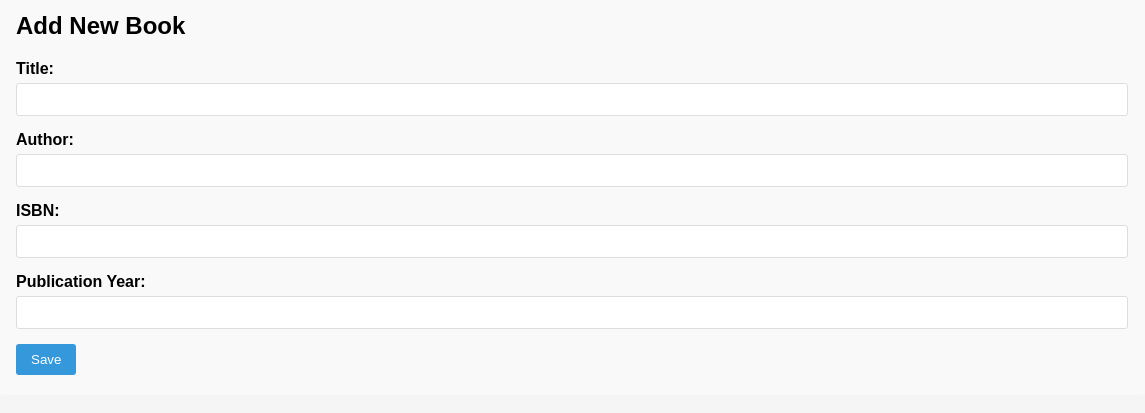
BookForm › shows error for invalid ISBN length
Type "TestBook" into the field labelled "Title:" at (572, 99), box [16, 83, 1128, 116]
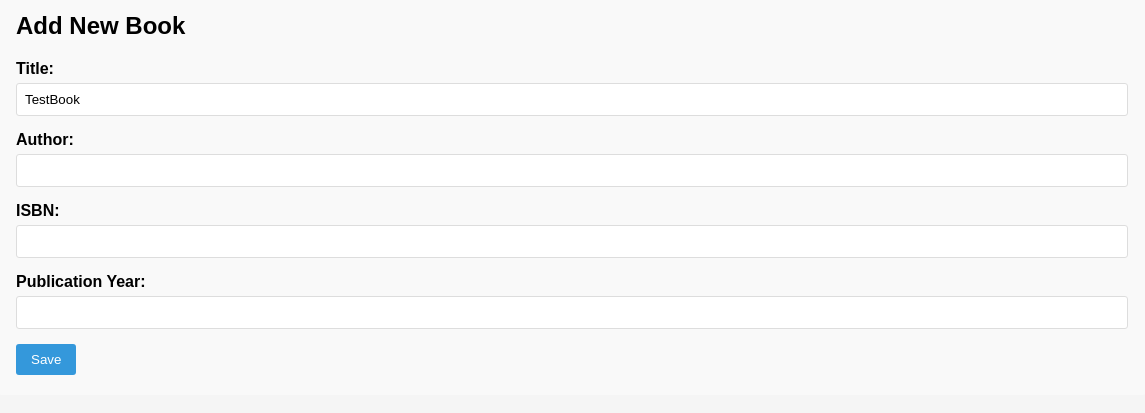
Type "Tester" into the field labelled "Author:" at (572, 170), box [16, 154, 1128, 187]
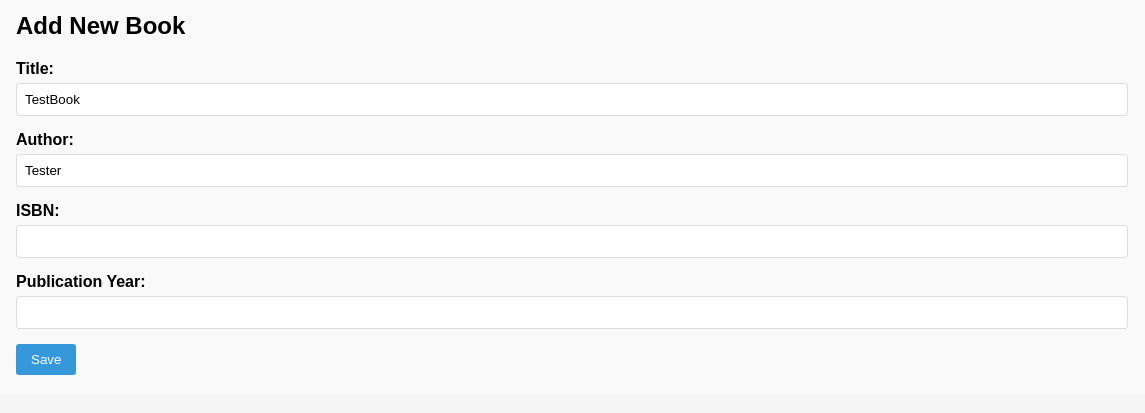
Type "shortisbn" into the field labelled "ISBN:" at (572, 241), box [16, 225, 1128, 258]
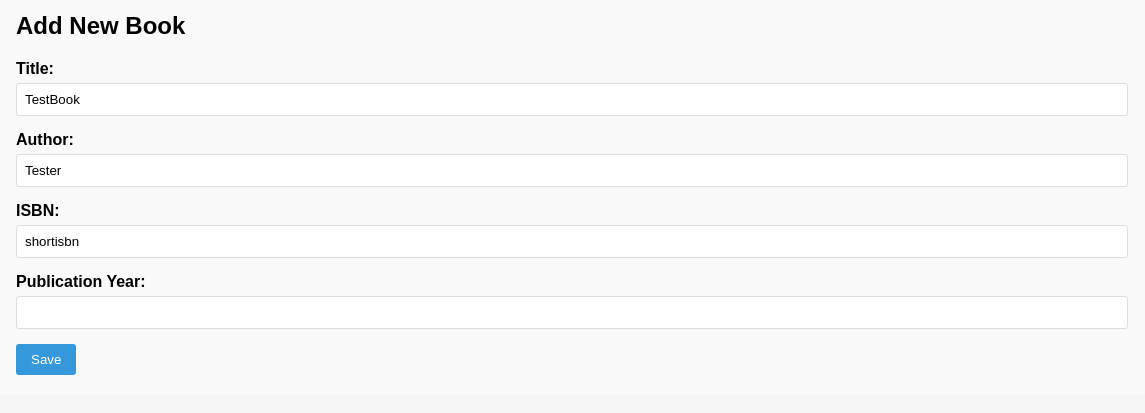
Type "2023" into the number field labelled "Publication Year:" at (572, 312), box [16, 296, 1128, 329]
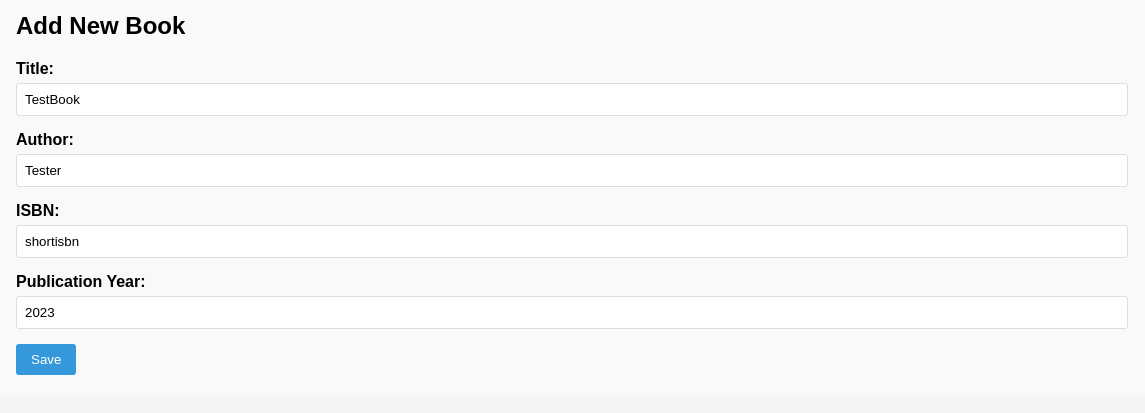
Click the button "Save" at (46, 359), box [16, 344, 76, 375]
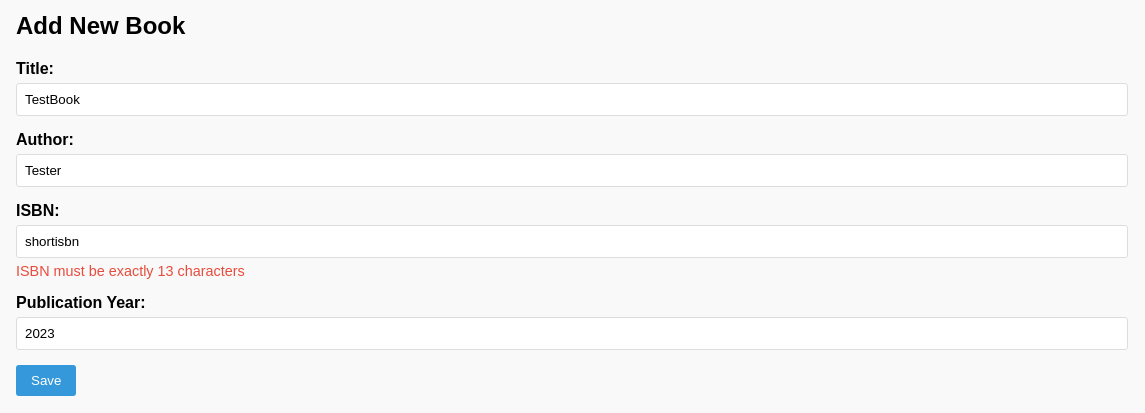
Result: the text "ISBN must be exactly 13 characters" is shown at [16, 263, 245, 279]
